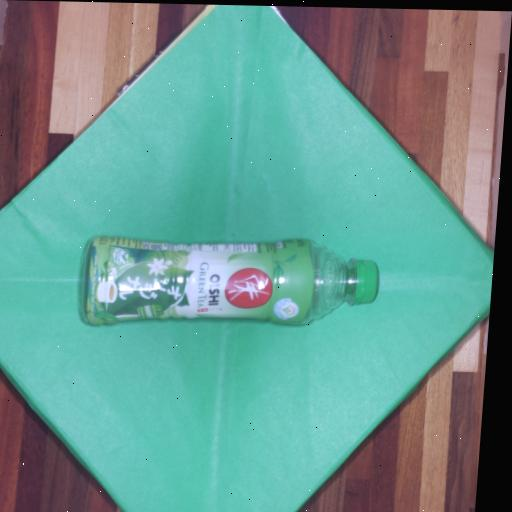bottle: (84, 237, 378, 324)
